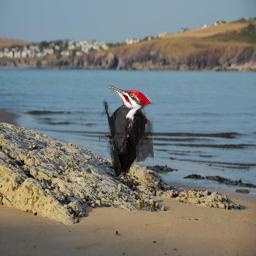Woodpecker: (99, 85, 154, 177)
